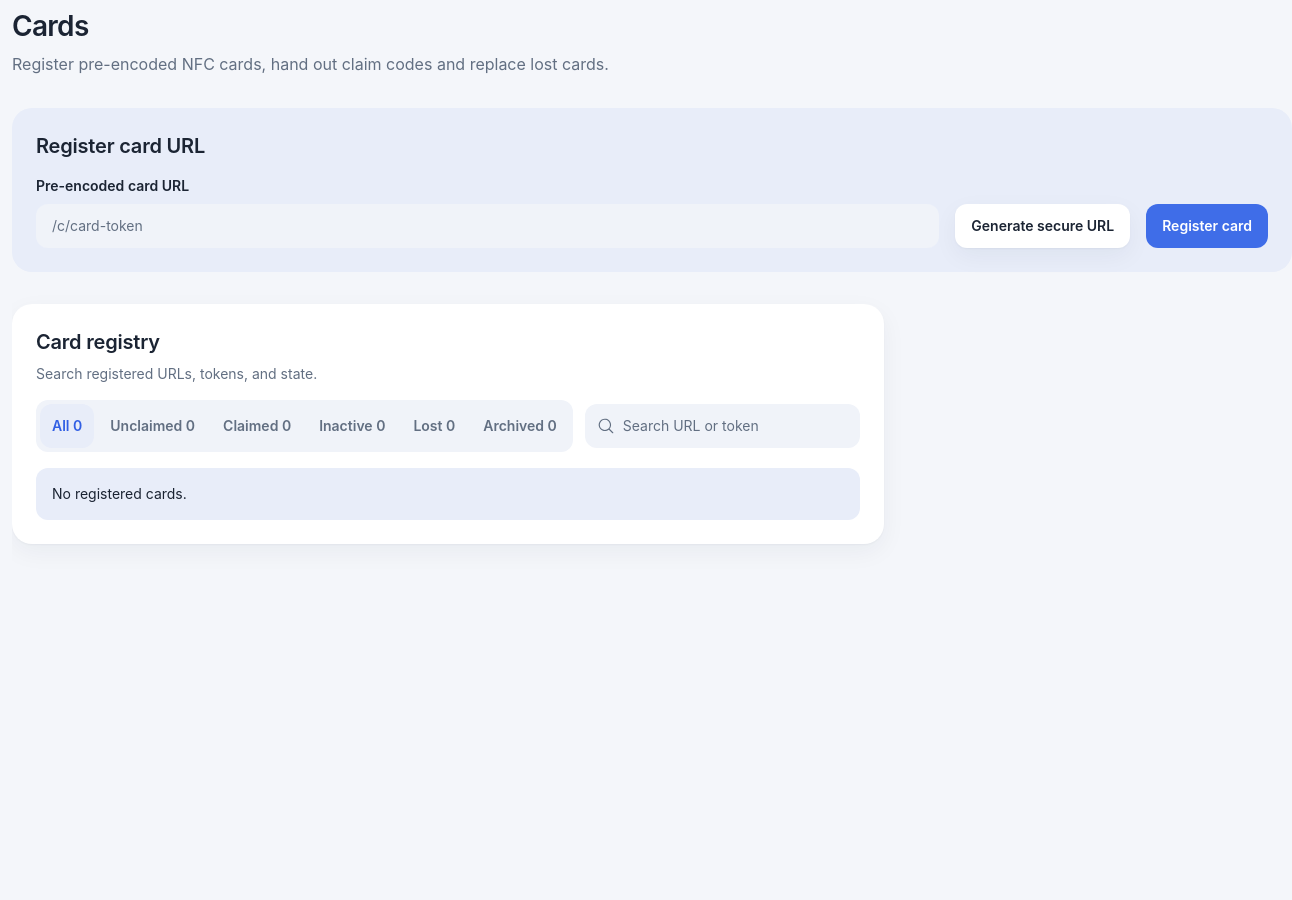
Scenario: live card URL mutations › generates canonical URLs
This screenshot has width=1292, height=900.
Click the button "Generate secure URL" at (1043, 226), box [955, 204, 1130, 248]
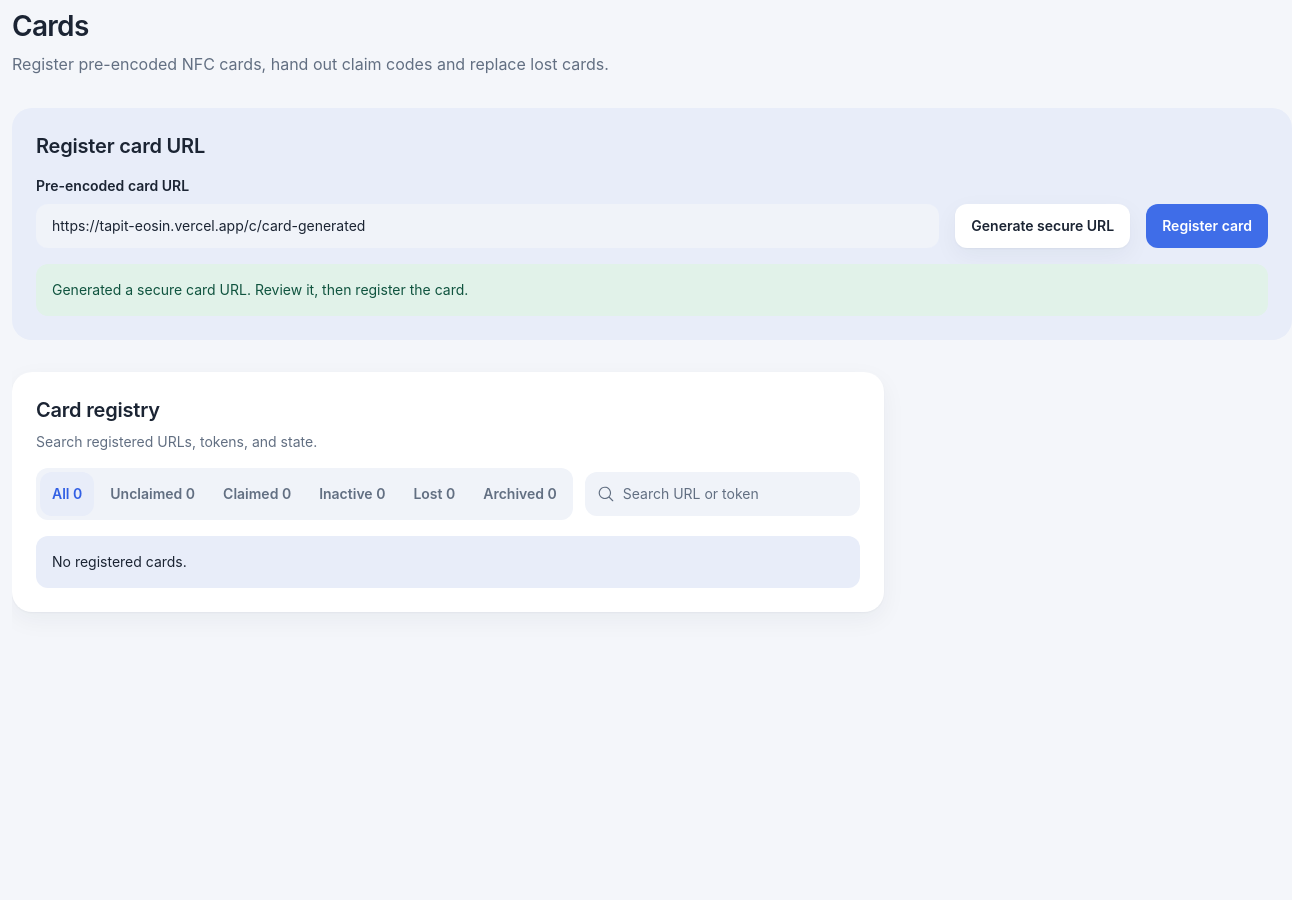
Result: the field labelled "Pre-encoded card URL" holds "https://tapit-eosin.vercel.app/c/card-generated" at [36, 204, 939, 248]
